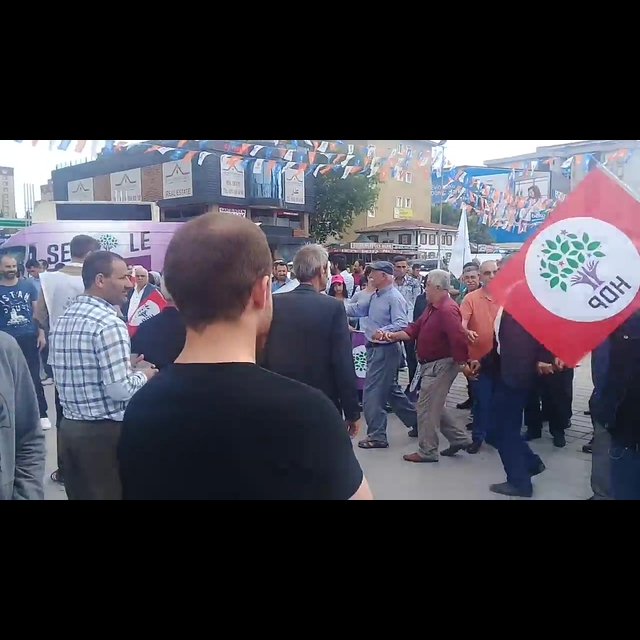HDP: (536, 228, 604, 294)
